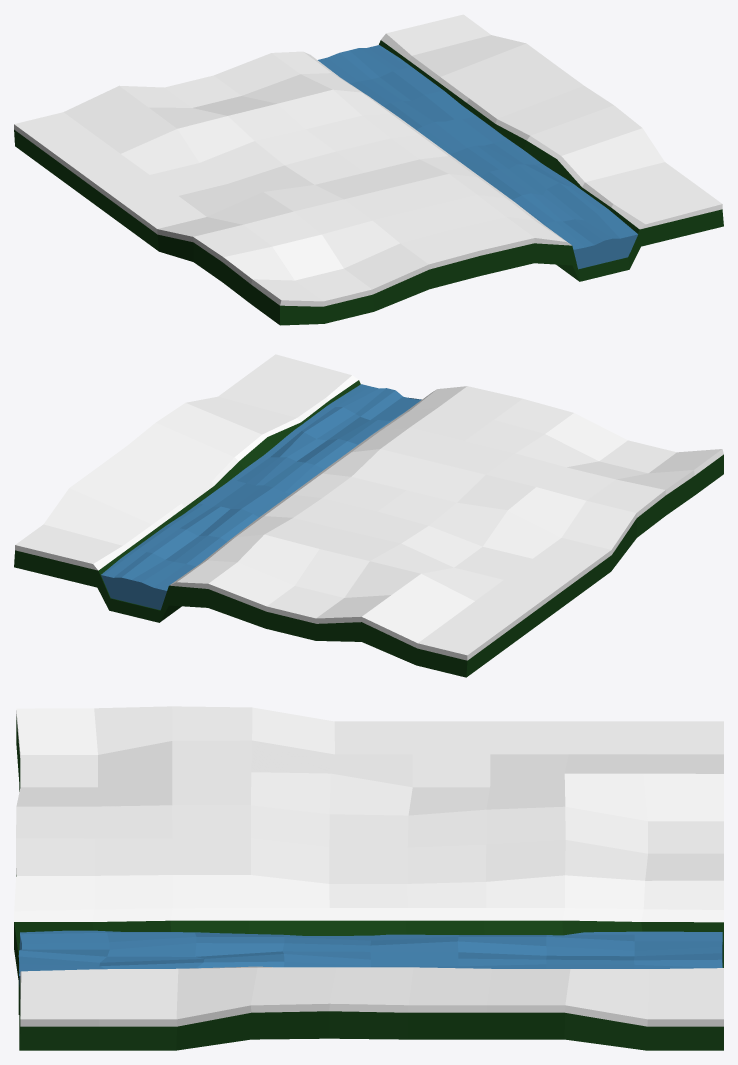
File: Ground.fbx
The picture shows the model from 3 angles, top to bottom: view 1: azimuth 30°, elevation 25°; view 2: azimuth 150°, elevation 25°; view 3: azimuth 270°, elevation 25°; orthographic projection. The views are drawn at different scales.
Parts seen in each view (by area): view 1: Ground; view 2: Ground; view 3: Ground.
Part boxes in pixels (x1,y1,x2,y2): Ground: [14, 14, 723, 325]; Ground: [14, 354, 723, 677]; Ground: [14, 706, 723, 1050].
Size of the model in its own units: 8812 by 1047 by 8757.
1 material, 1 textured.
